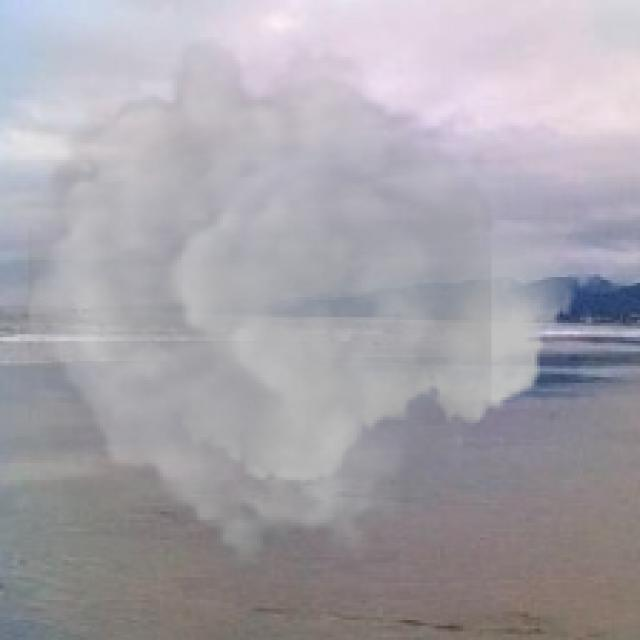Smoke: (28, 37, 586, 583)
